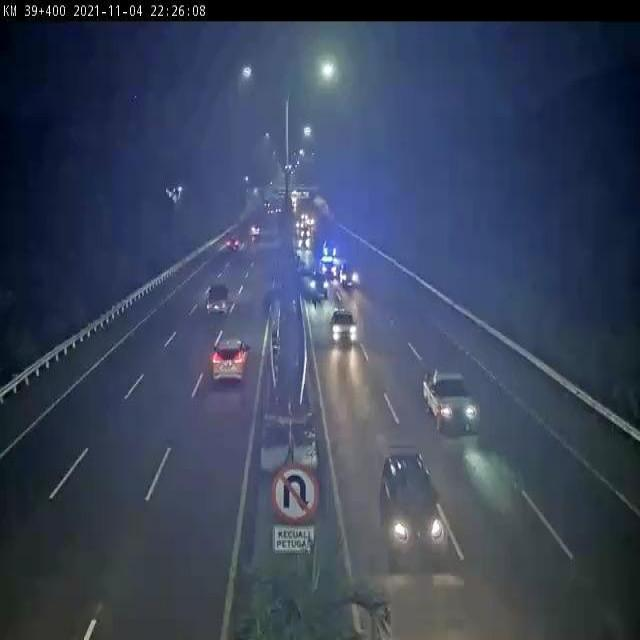car: (379, 449, 441, 554), (422, 372, 475, 431), (213, 337, 250, 384), (326, 307, 356, 348), (203, 285, 231, 319), (311, 269, 326, 295)
